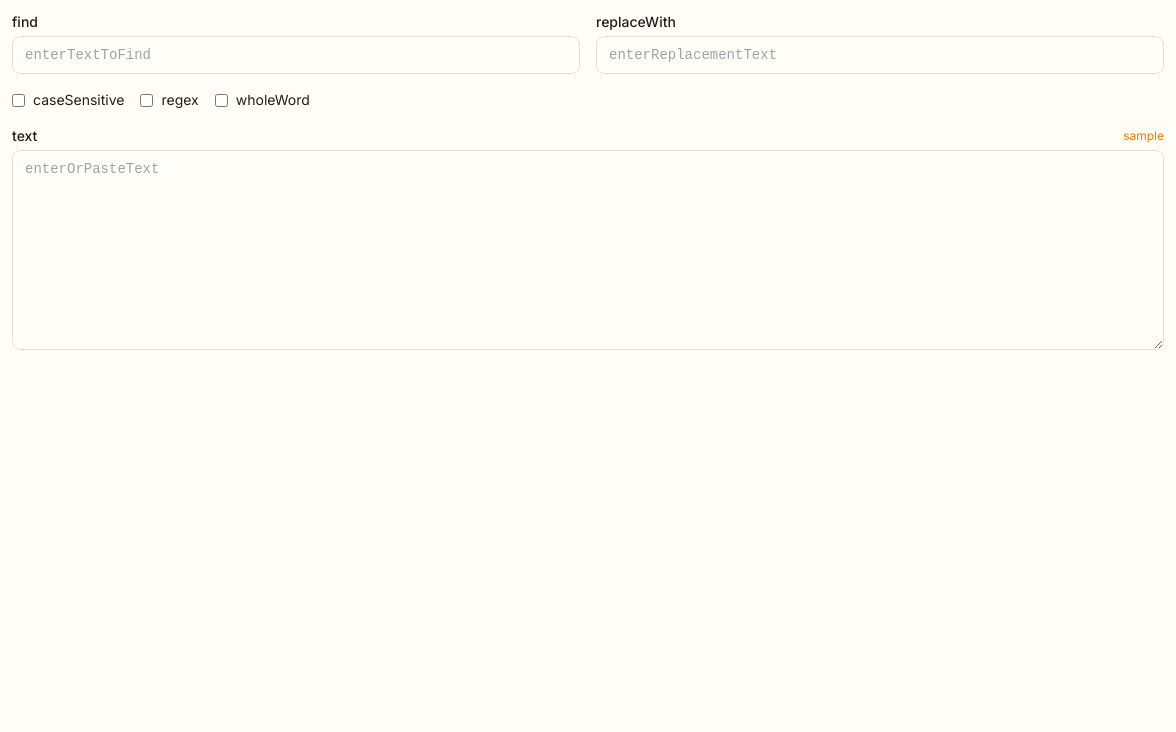
Test: FindAndReplace › replaces first occurrence only
Type "aaa bbb aaa bbb aaa" into the text box named "Text input for find and replace" at [588, 250], box [12,150,1164,350]
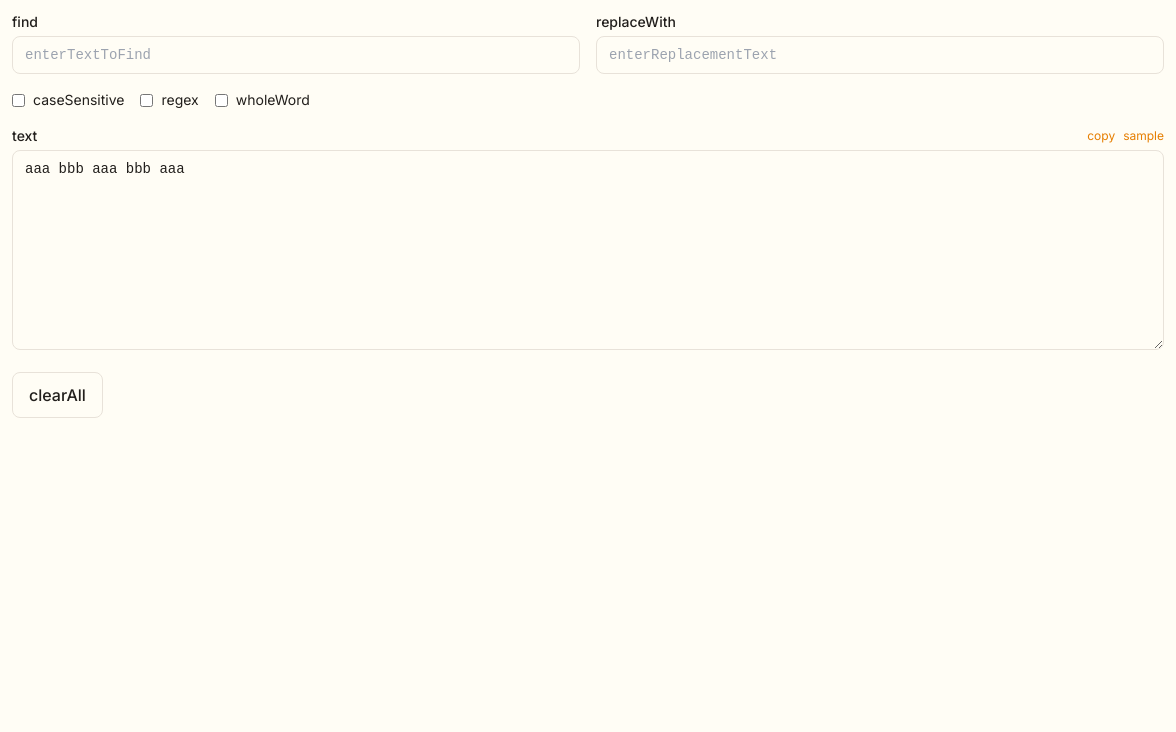
Type "aaa" into the field labelled "Find" at [296, 55], box [12,36,580,74]
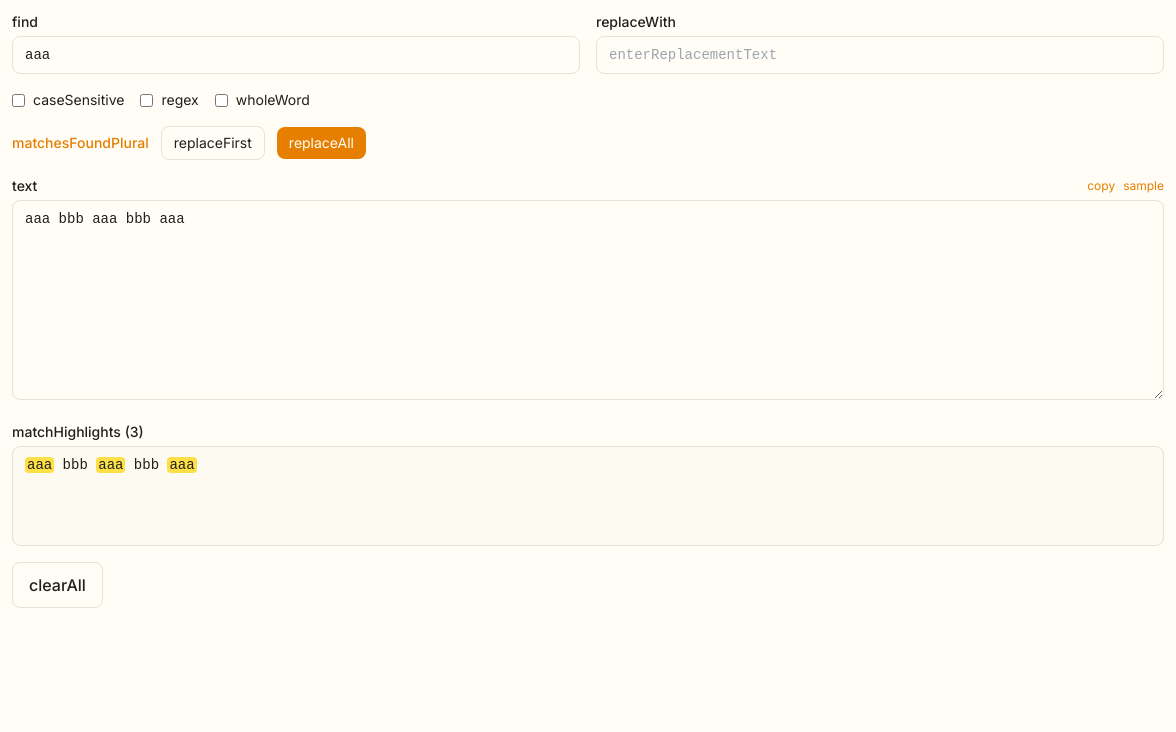
Type "xxx" into the field named "replaceWith" at [880, 55], box [596,36,1164,74]
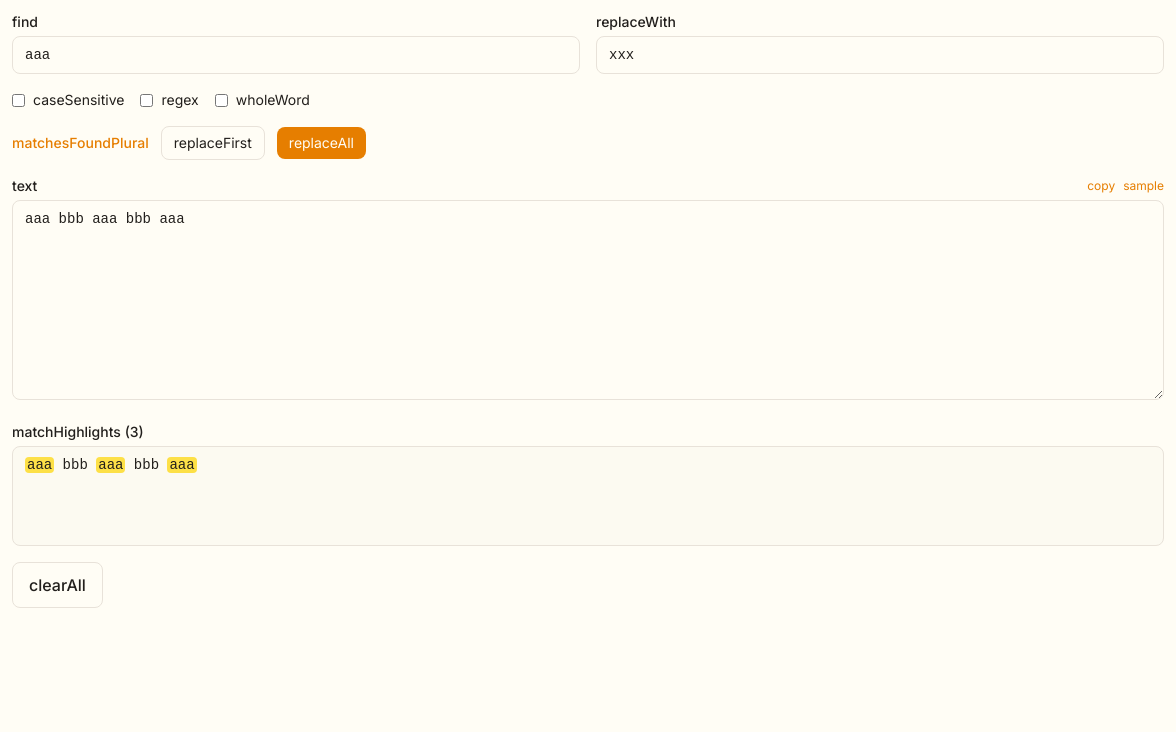
Click the button "replaceFirst" at [213, 143], box [161,126,265,160]
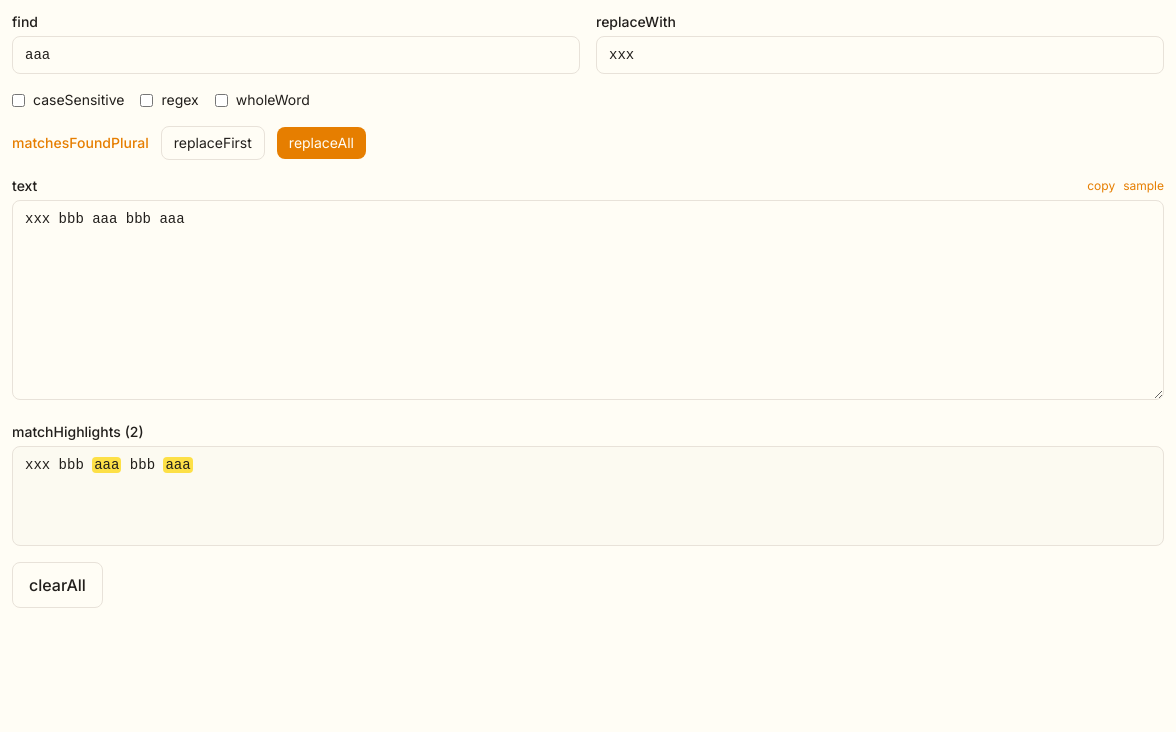
Expected: the text box named "Text input for find and replace" holds "xxx bbb aaa bbb aaa", [12,200,1164,400]
